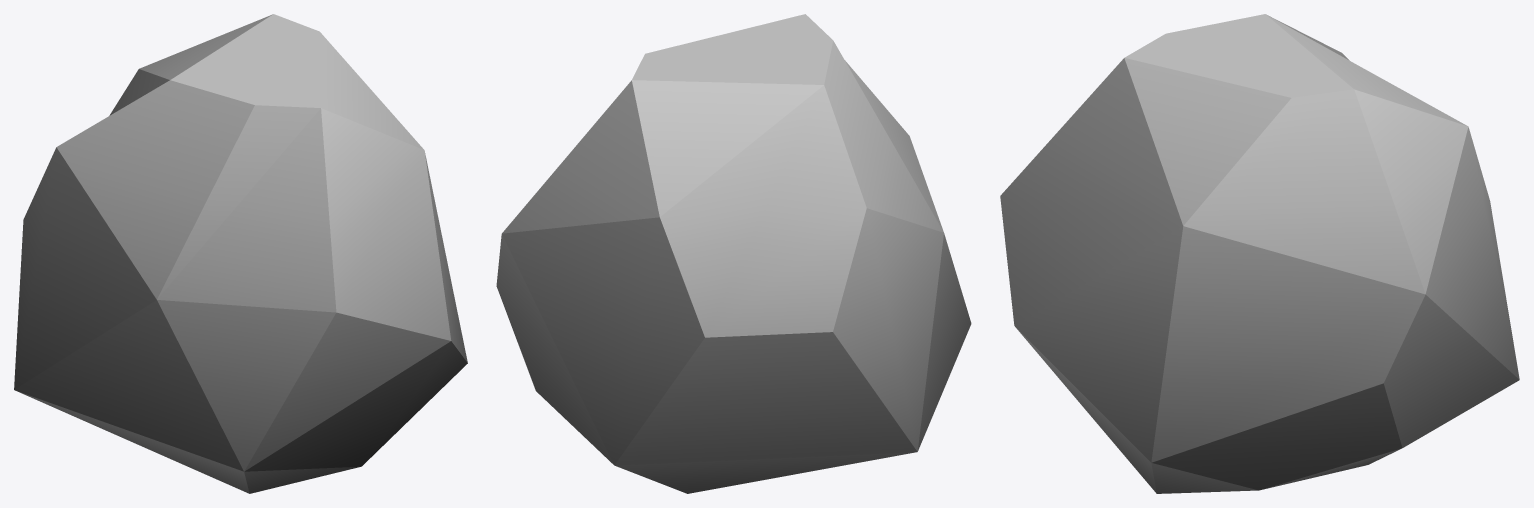
Rendered from Rock_3.fbx.
3 renders of one model, left to right at view 1: azimuth 30°, elevation 25°; view 2: azimuth 150°, elevation 25°; view 3: azimuth 270°, elevation 25°, orthographic. The views are drawn at different scales.
Parts seen in each view (by area): view 1: Icosphere.037; view 2: Icosphere.037; view 3: Icosphere.037.
Part boxes in pixels (x1,y1,x2,y2): Icosphere.037: [14, 14, 467, 493]; Icosphere.037: [496, 14, 971, 493]; Icosphere.037: [1000, 14, 1519, 493].
Bounding box in the file's own units: 158 × 150 × 173.
